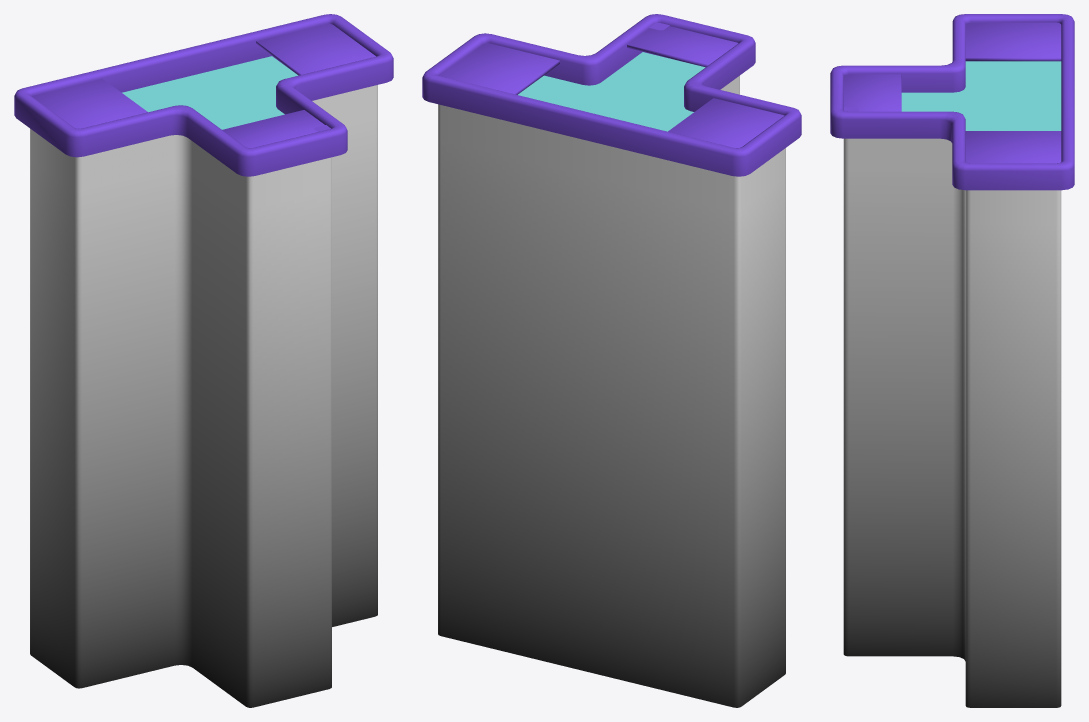
The picture shows the model from 3 angles, left to right: view 1: azimuth 30°, elevation 25°; view 2: azimuth 150°, elevation 25°; view 3: azimuth 270°, elevation 25°; orthographic projection. The views are drawn at different scales.
Visible parts, largest first — view 1: T_3x2, T_3x2_Cap, T_3x2_Stencil; view 2: T_3x2, T_3x2_Cap, T_3x2_Stencil; view 3: T_3x2, T_3x2_Cap, T_3x2_Stencil.
Part boxes in pixels (box(x1,y1,x2,y2)): T_3x2: box(14, 14, 393, 707); T_3x2_Cap: box(31, 24, 375, 148); T_3x2_Stencil: box(122, 56, 298, 129); T_3x2: box(422, 14, 801, 707); T_3x2_Cap: box(440, 26, 784, 147); T_3x2_Stencil: box(518, 52, 705, 131); T_3x2: box(830, 14, 1074, 707); T_3x2_Cap: box(843, 22, 1061, 163); T_3x2_Stencil: box(901, 61, 1061, 130).
Size of the model in its own units: 3 by 4.94 by 2.
Materials: 3 (1 with a texture image).
